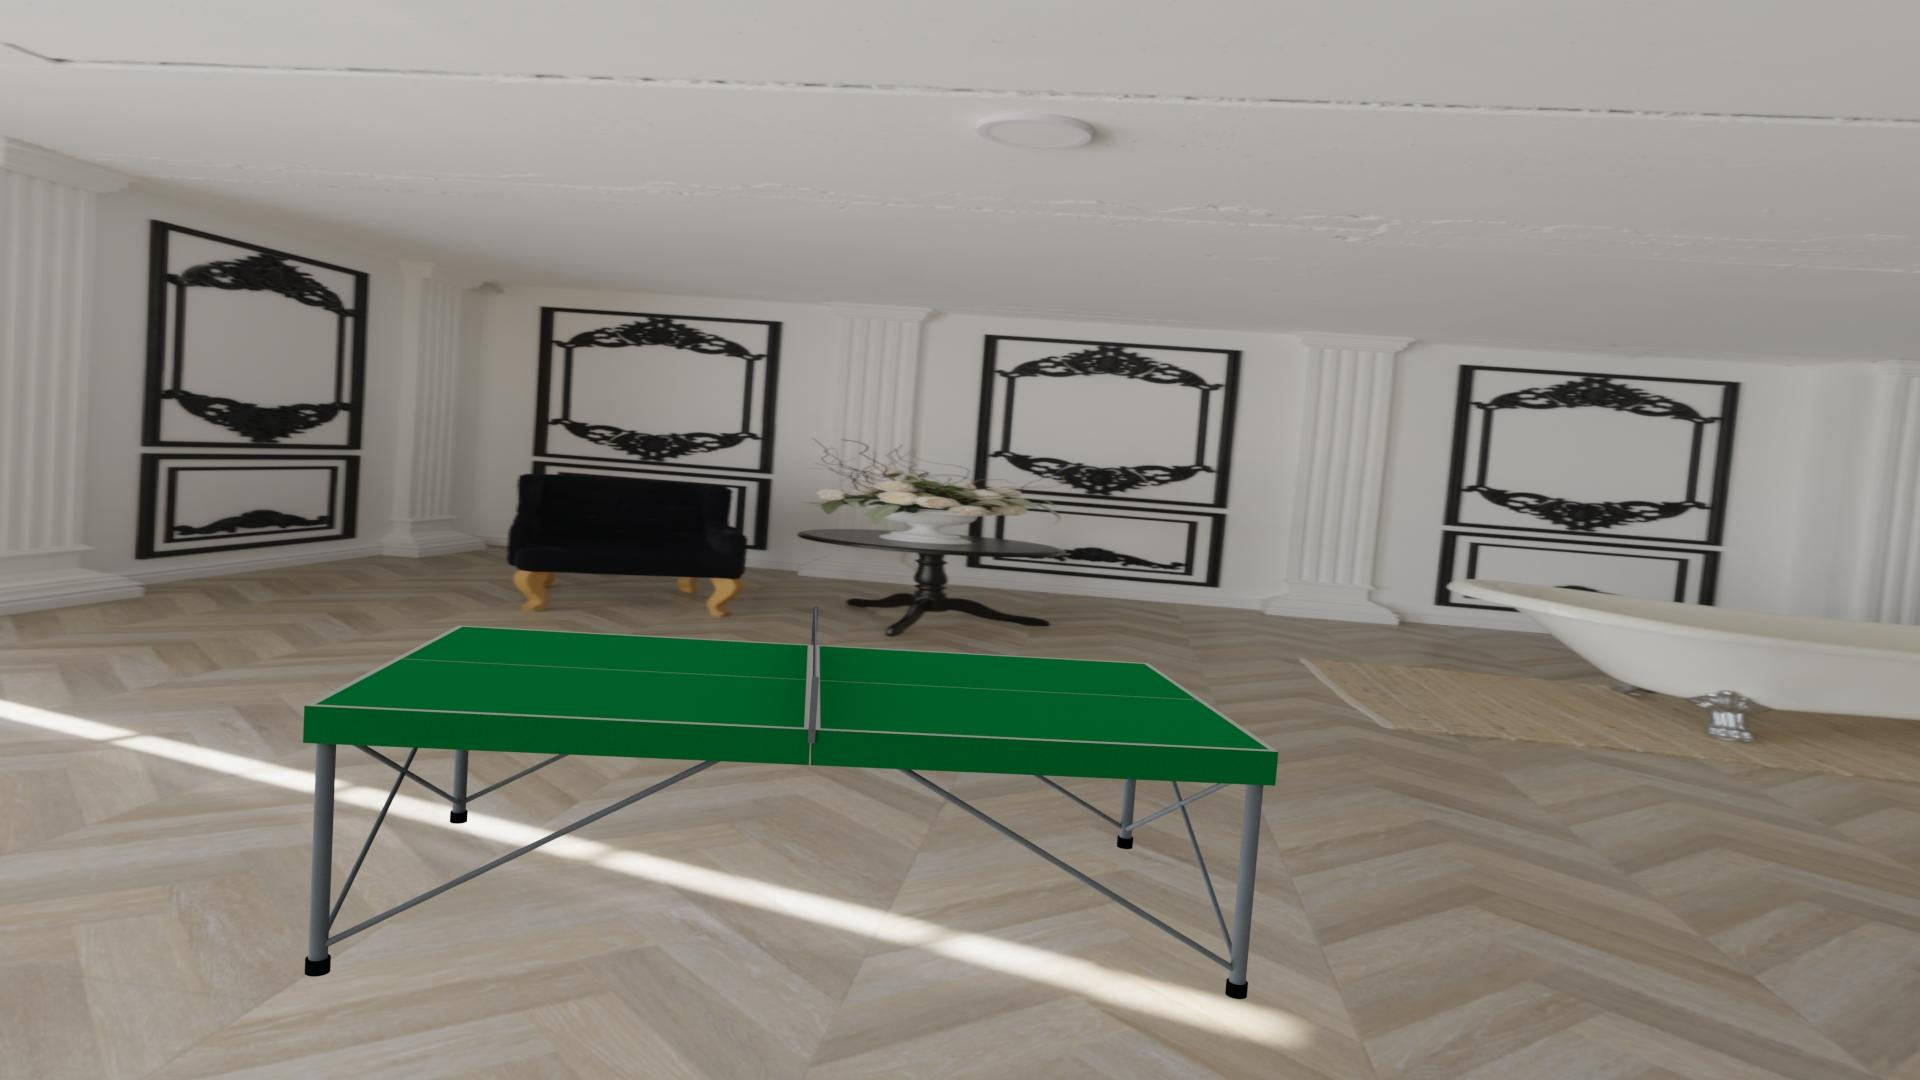table: (315, 626, 1270, 750)
